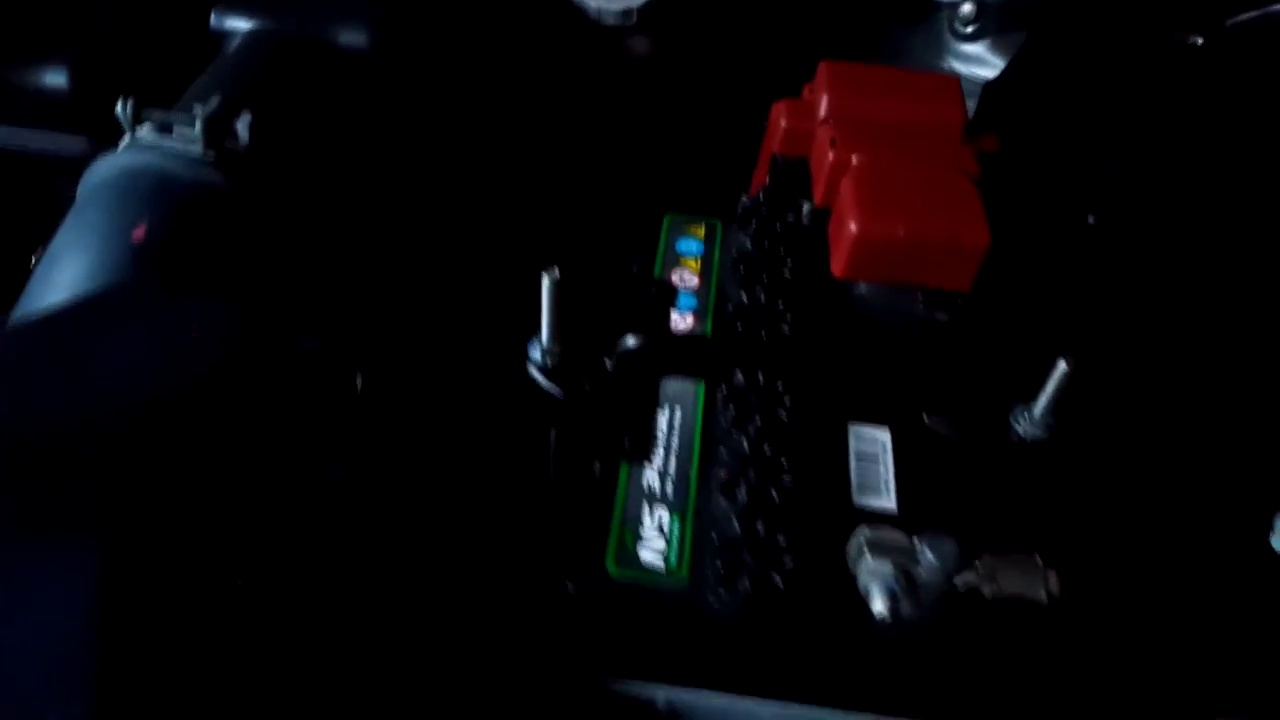battery: (614, 205, 1064, 650)
neg_connected: (791, 479, 1069, 641)
pos_connected: (760, 67, 1026, 293)
